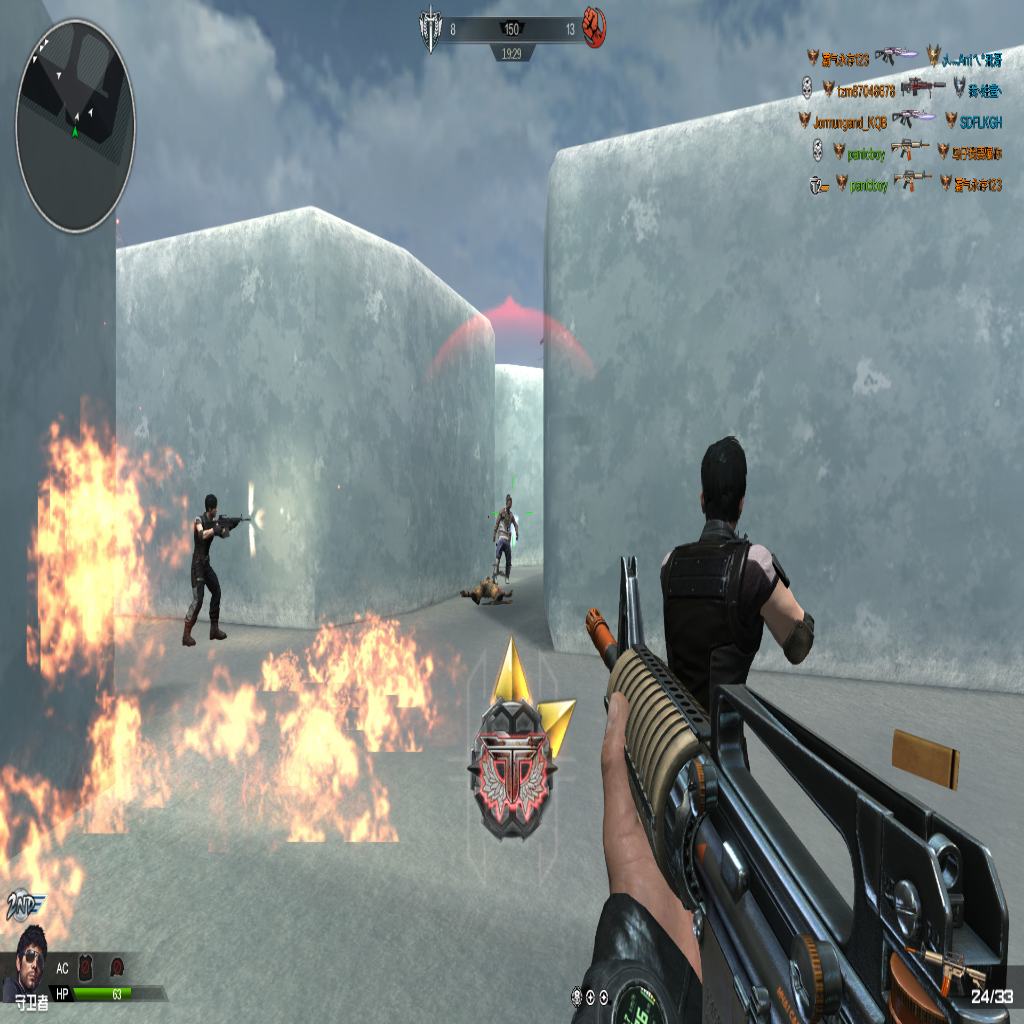ct: (662, 422, 814, 752)
tt: (491, 496, 519, 588)
